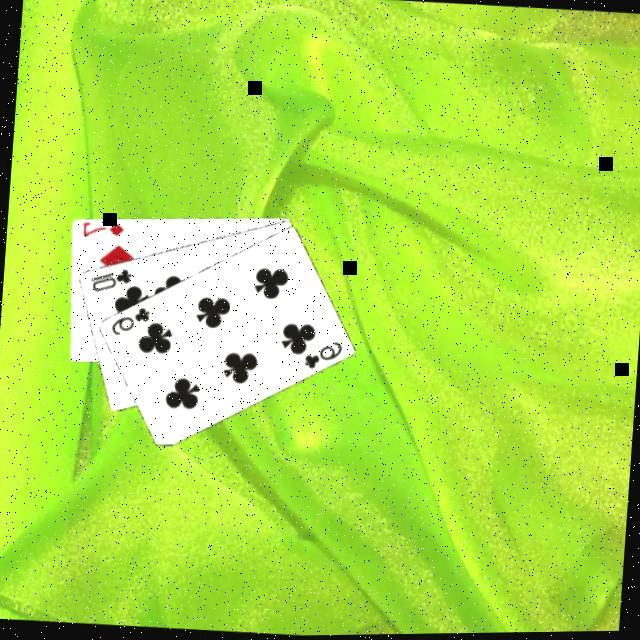10C: (86, 260, 136, 294)
6C: (108, 300, 154, 340), (302, 333, 346, 372)
7D: (80, 215, 128, 241)
